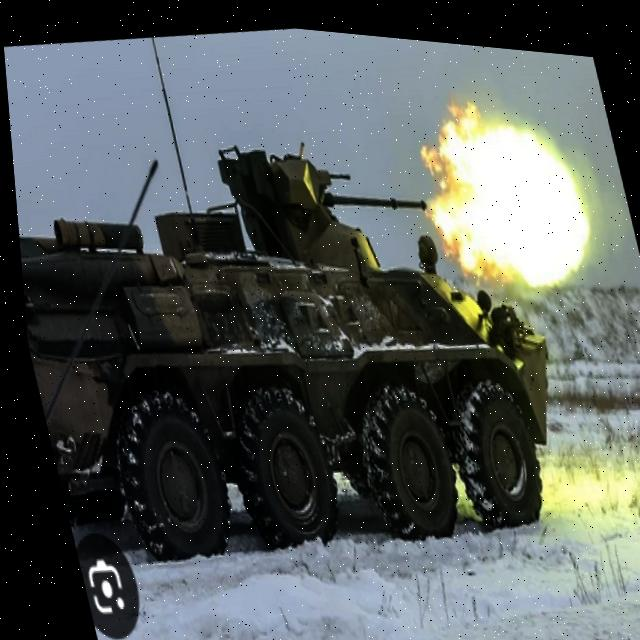MIL_APC: (5, 72, 581, 604)
